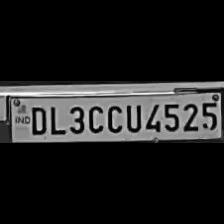2: (180, 100, 198, 132)
3: (65, 102, 85, 134)
4: (142, 100, 160, 132)
5: (198, 98, 218, 132), (159, 99, 179, 131)
C: (86, 102, 104, 134), (104, 102, 122, 132)
D: (27, 103, 47, 135)
L: (48, 102, 64, 136)
U: (122, 100, 142, 132)
